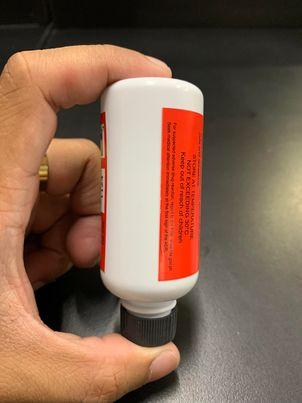-Bottle-: (99, 77, 205, 348)
